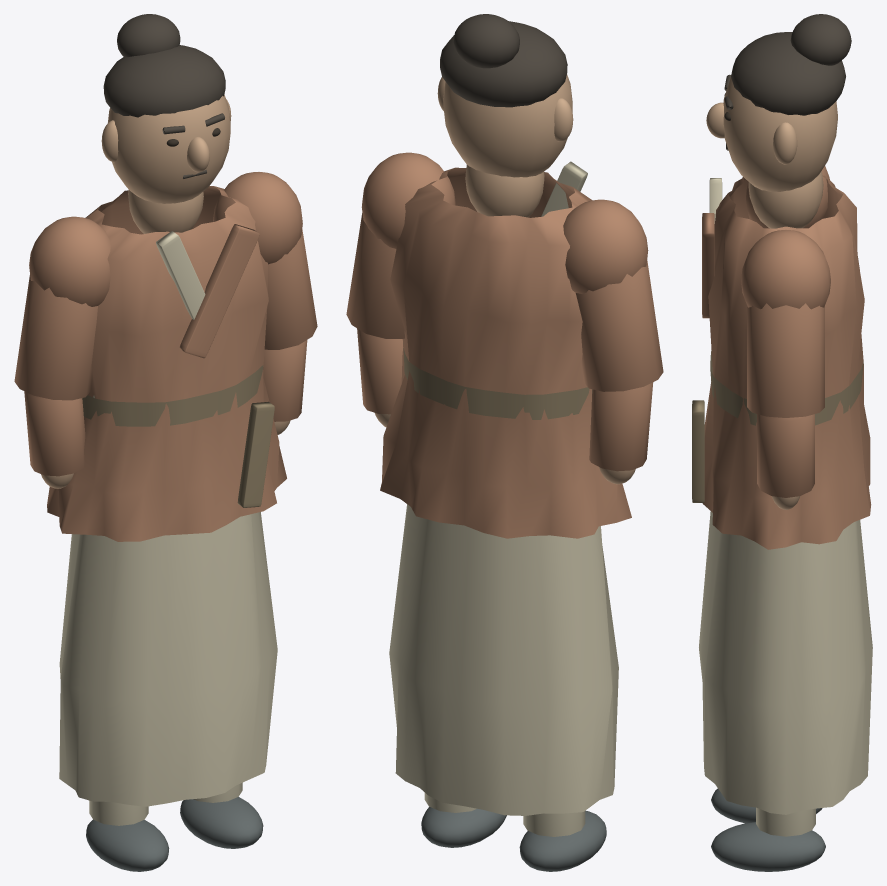
File: woman.glb
The picture shows the model from 3 angles, left to right: view 1: azimuth 30°, elevation 25°; view 2: azimuth 150°, elevation 25°; view 3: azimuth 270°, elevation 25°; orthographic projection. The views are drawn at different scales.
Parts seen in each view (by area): view 1: Long woven skirt, Cross-collar working coat.001, Face.001, upper.002, Hair crown.001, Shoulder.002, Shoulder.003, fore.002, upper.003, Woven waist sash.001, Folded tunic lapel.001, Cloth shoe.002 (+8 smaller); view 2: Long woven skirt, Cross-collar working coat.001, upper.002, Face.001, Hair crown.001, Shoulder.002, Shoulder.003, fore.002, upper.003, Woven waist sash.001, fore.003, Cloth shoe.002 (+6 smaller); view 3: Long woven skirt, Cross-collar working coat.001, upper.003, Face.001, Hair crown.001, Shoulder.003, fore.003, Cloth shoe.003, Neck.001, Tied hair bun, Woven waist sash.001, shin.003 (+7 smaller).
Boxes of the visible parts, x1=… form: Long woven skirt: x1=59, y1=395, x2=277, y2=806; Cross-collar working coat.001: x1=47, y1=186, x2=286, y2=541; Face.001: x1=108, y1=94, x2=230, y2=203; upper.002: x1=14, y1=275, x2=97, y2=400; Hair crown.001: x1=103, y1=45, x2=225, y2=117; Shoulder.002: x1=29, y1=216, x2=110, y2=306; Shoulder.003: x1=213, y1=172, x2=302, y2=264; fore.002: x1=24, y1=391, x2=85, y2=476; upper.003: x1=264, y1=229, x2=317, y2=349; Woven waist sash.001: x1=82, y1=365, x2=263, y2=426; Folded tunic lapel.001: x1=179, y1=224, x2=259, y2=358; Cloth shoe.002: x1=86, y1=819, x2=169, y2=871; Long woven skirt: x1=389, y1=504, x2=618, y2=815; Cross-collar working coat.001: x1=380, y1=167, x2=631, y2=538; upper.002: x1=575, y1=260, x2=663, y2=391; Face.001: x1=443, y1=74, x2=572, y2=177; Hair crown.001: x1=440, y1=21, x2=567, y2=107; Shoulder.002: x1=563, y1=199, x2=648, y2=293; Shoulder.003: x1=361, y1=152, x2=455, y2=248; fore.002: x1=589, y1=382, x2=653, y2=471; upper.003: x1=346, y1=213, x2=404, y2=338; Woven waist sash.001: x1=403, y1=343, x2=592, y2=419; fore.003: x1=357, y1=328, x2=403, y2=414; Cloth shoe.002: x1=519, y1=810, x2=606, y2=871; Long woven skirt: x1=699, y1=511, x2=872, y2=814; Cross-collar working coat.001: x1=702, y1=175, x2=871, y2=549; upper.003: x1=747, y1=303, x2=824, y2=417; Face.001: x1=723, y1=77, x2=837, y2=191; Hair crown.001: x1=731, y1=32, x2=845, y2=115; Shoulder.003: x1=741, y1=230, x2=830, y2=309; fore.003: x1=757, y1=414, x2=814, y2=497; Cloth shoe.003: x1=711, y1=822, x2=825, y2=871; Neck.001: x1=748, y1=171, x2=823, y2=228; Tied hair bun: x1=790, y1=14, x2=851, y2=65; Woven waist sash.001: x1=710, y1=350, x2=863, y2=425; shin.003: x1=756, y1=807, x2=815, y2=836.
Bounding box in the file's own units: 0.6841 × 1.82 × 0.3607.
